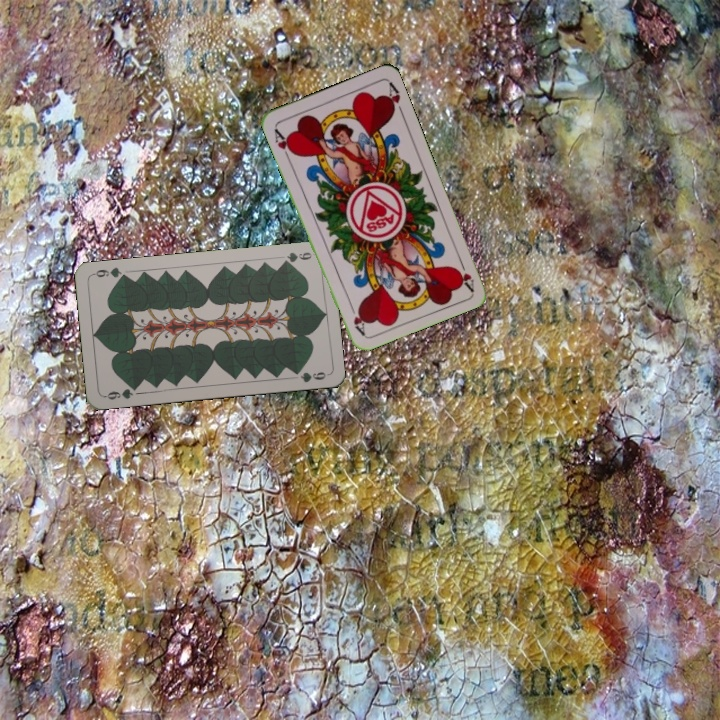G9: (101, 382, 141, 402), (278, 248, 317, 266)
HA: (451, 253, 477, 293), (270, 124, 297, 162)
